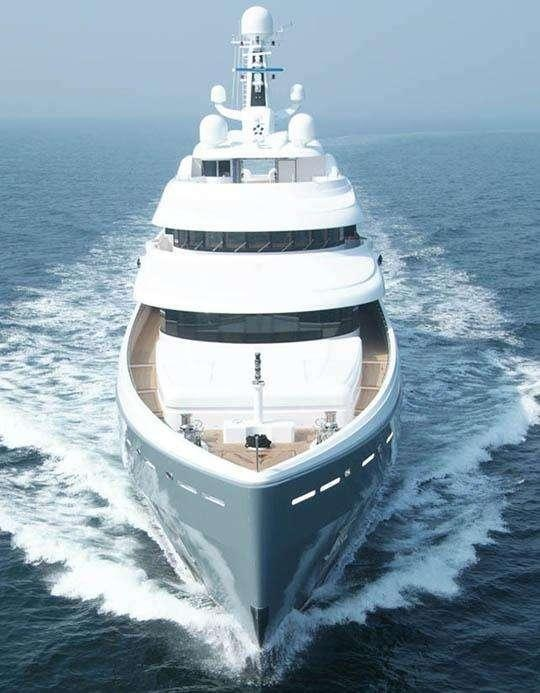yacht: (113, 6, 406, 622)
